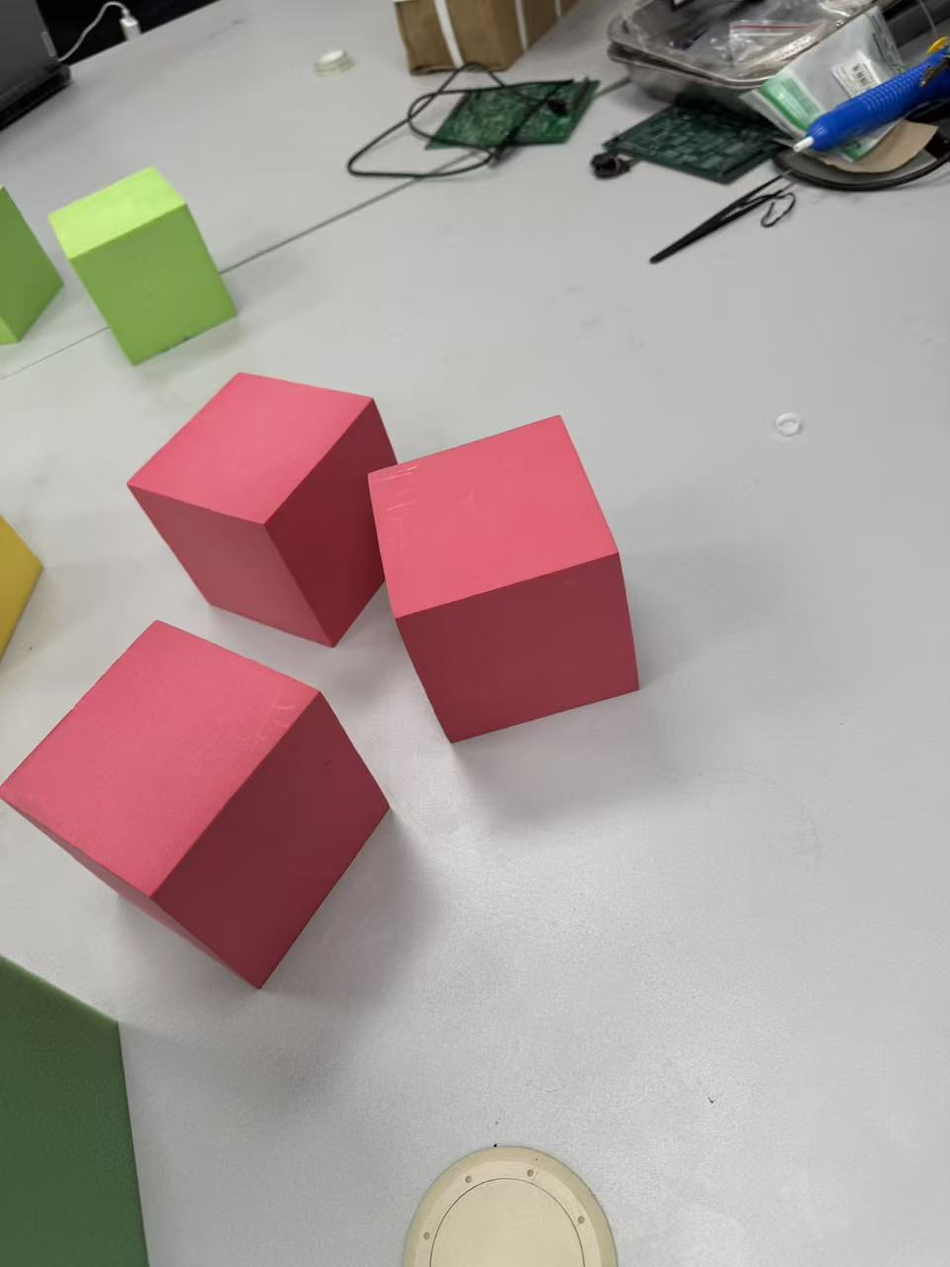green_small: (50, 167, 240, 364)
red_small: (2, 622, 390, 990), (368, 416, 634, 745), (130, 370, 407, 650)
